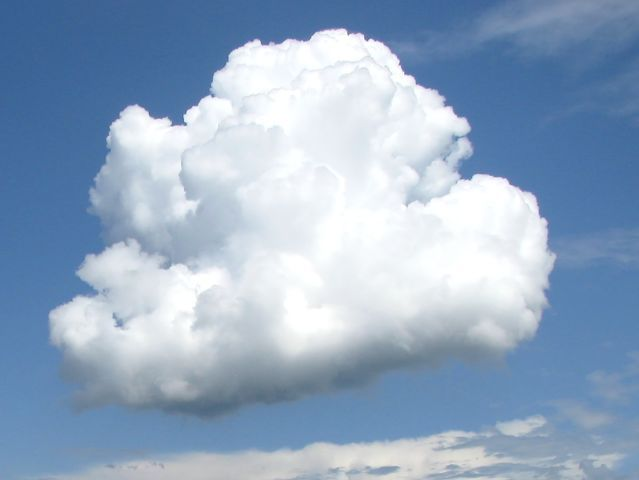Cumulus: (39, 20, 570, 425)
